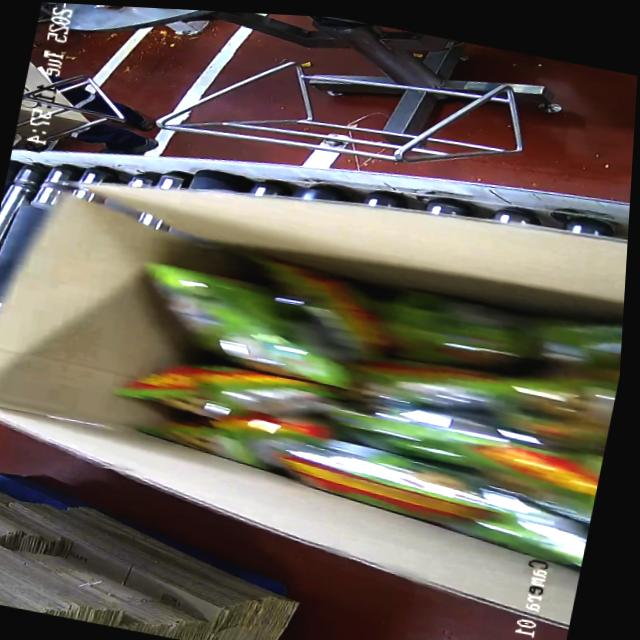YOGURT_HERB: (102, 218, 627, 564)
